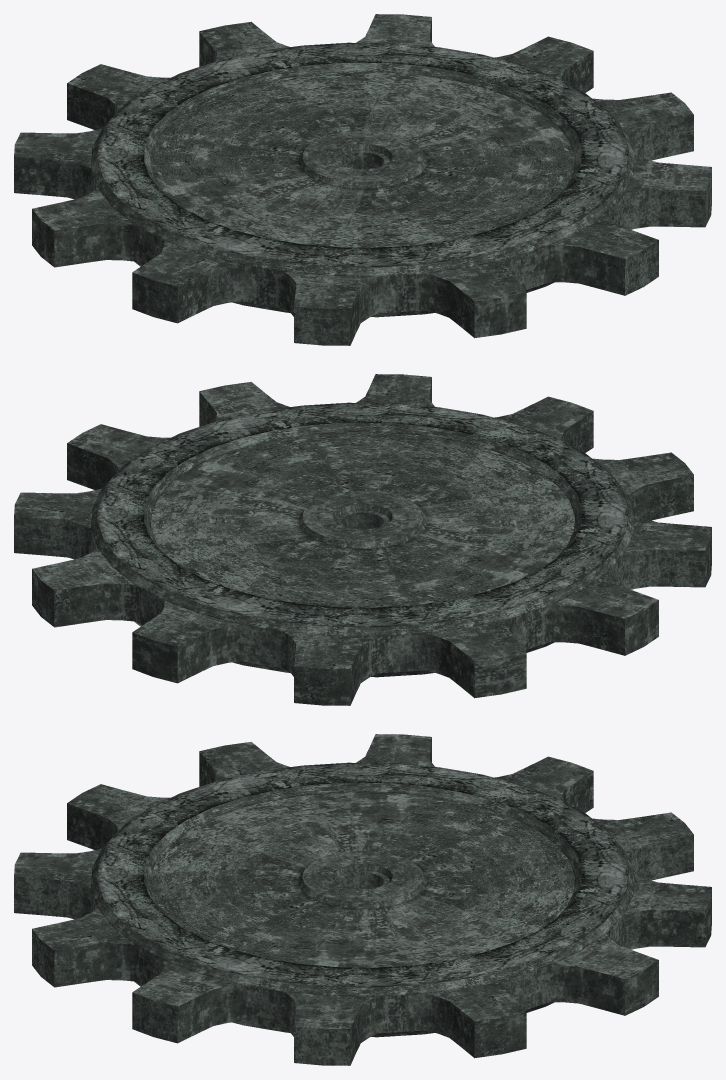
3 renders of one model, top to bottom at view 1: azimuth 30°, elevation 25°; view 2: azimuth 150°, elevation 25°; view 3: azimuth 270°, elevation 25°, orthographic.
Visible parts, largest first — view 1: mg_9_object_4; view 2: mg_9_object_4; view 3: mg_9_object_4.
Part boxes in pixels (bbox=[...]): mg_9_object_4: bbox=[14, 14, 711, 345]; mg_9_object_4: bbox=[14, 374, 711, 705]; mg_9_object_4: bbox=[14, 734, 711, 1065].
Bounding box in the file's own units: 1583 × 124 × 1583.
